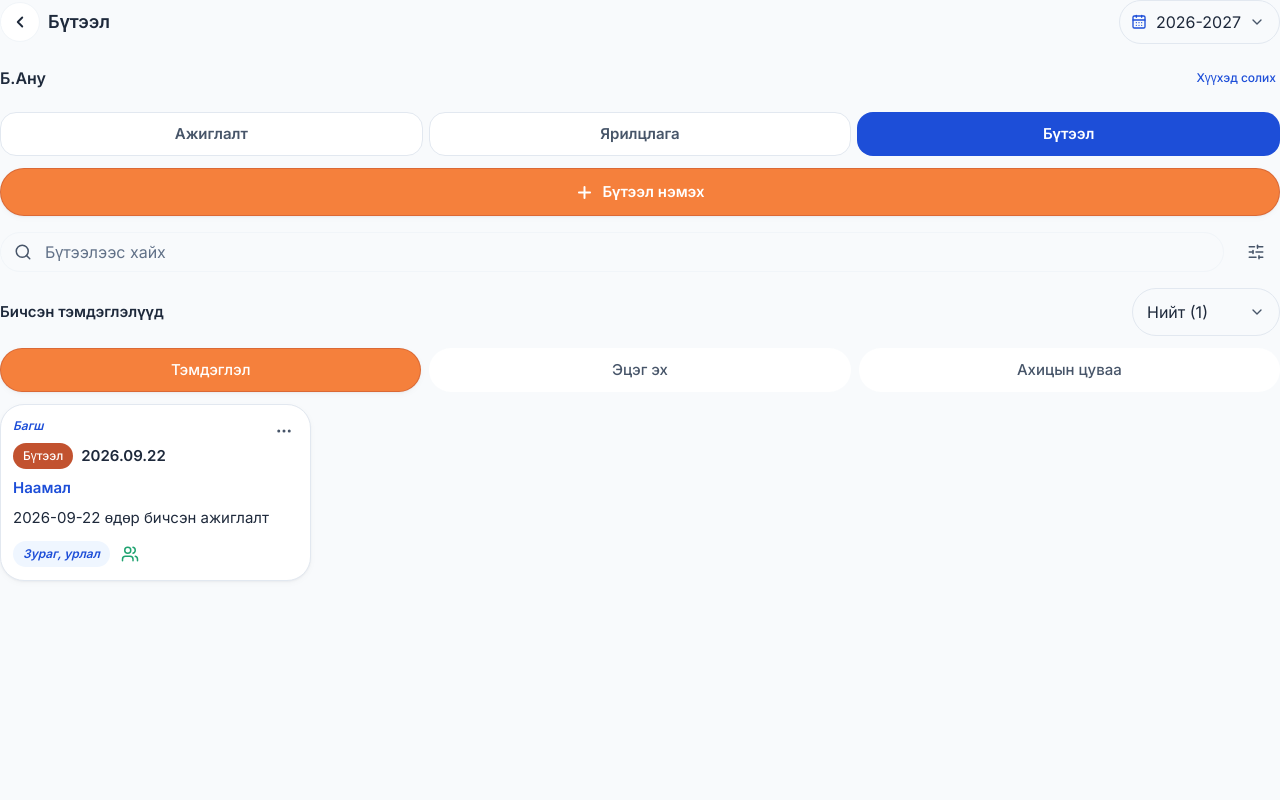
Test: the record hub › filters artwork by the fixed artwork types instead of observation kinds
The width and height of the screenshot is (1280, 800).
Click the button named "Шүүлтүүр": (1256, 252) x1=1232 y1=228 x2=1279 y2=276
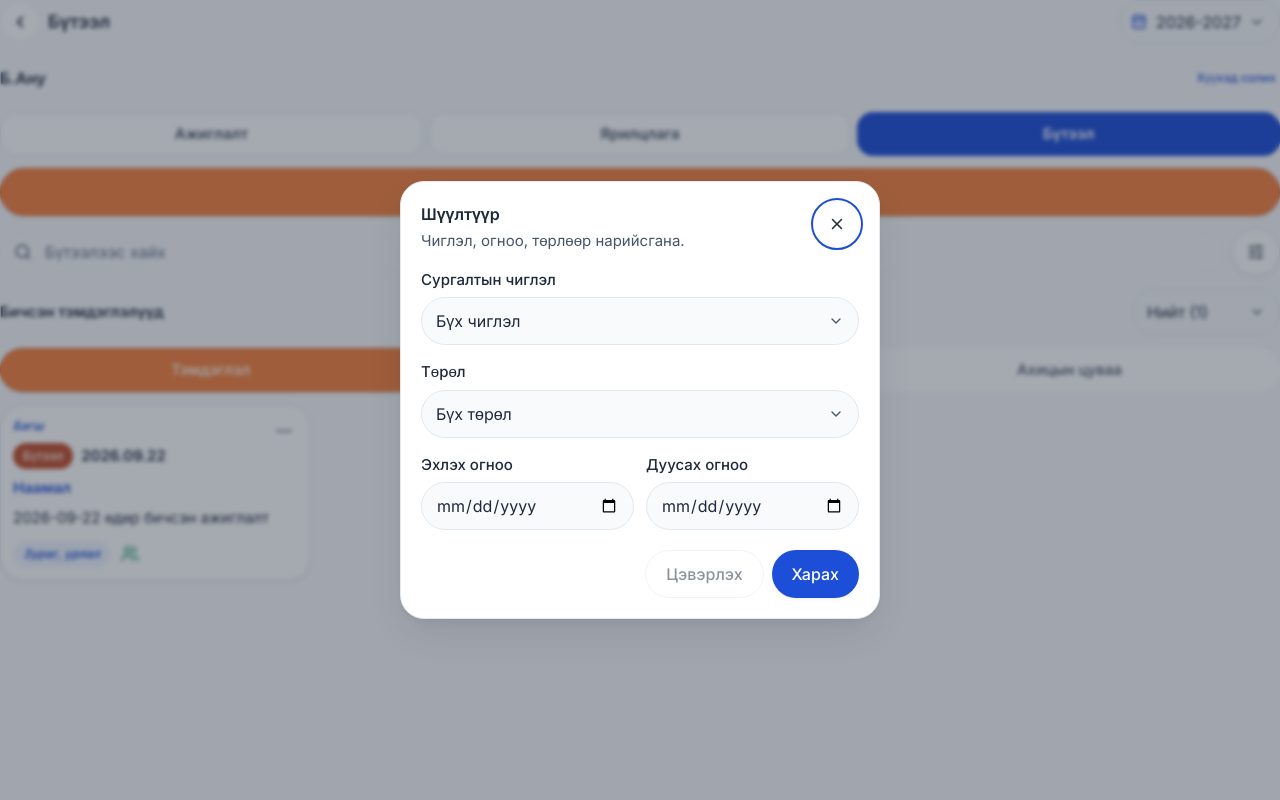
Click the dropdown labelled "төрөл": (474, 414) x1=421 y1=390 x2=859 y2=438
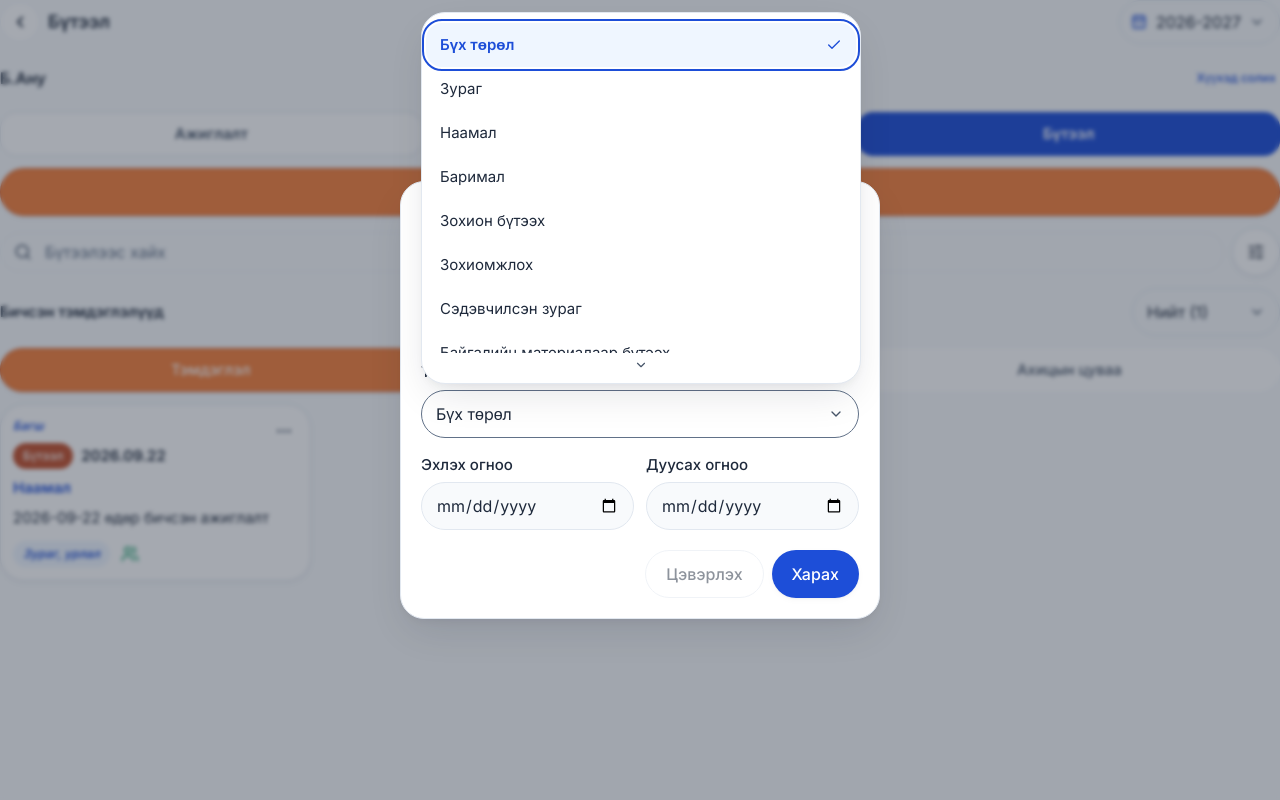
Expected: the option "Зураг" is shown, x1=440 y1=79 x2=482 y2=98
Expected: the option "Наамал" is shown, x1=440 y1=123 x2=497 y2=142
Expected: the option "Баримал" is shown, x1=440 y1=167 x2=505 y2=186
